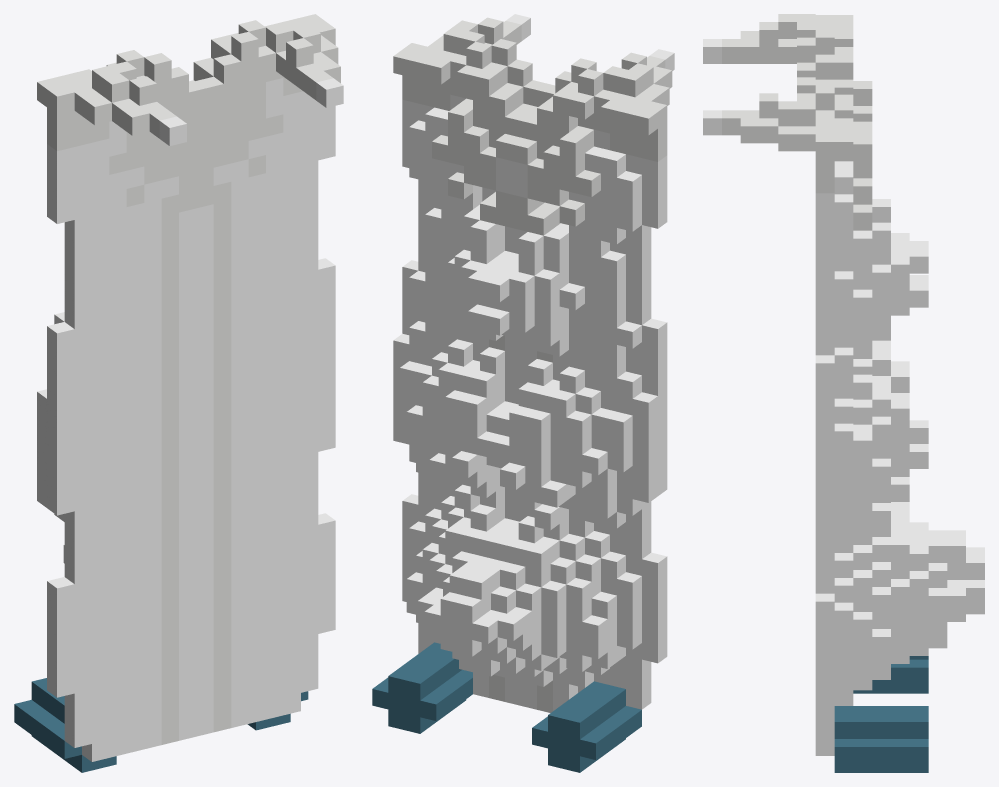
The model's file is cape_bouffante.glb.
3 views of the same model, side by side, from view 1: azimuth 30°, elevation 25°; view 2: azimuth 150°, elevation 25°; view 3: azimuth 270°, elevation 25° (orthographic). The views are drawn at different scales.
Visible parts, largest first — view 1: cape_bouffante; view 2: cape_bouffante; view 3: cape_bouffante.
Boxes of the visible parts, x1,y1,x2,y2 form: cape_bouffante: [14, 14, 343, 772]; cape_bouffante: [372, 14, 674, 772]; cape_bouffante: [703, 14, 984, 772].
Size of the model in its own units: 0.688 by 1.68 by 0.645.
Materials: 1 (1 with a texture image).
